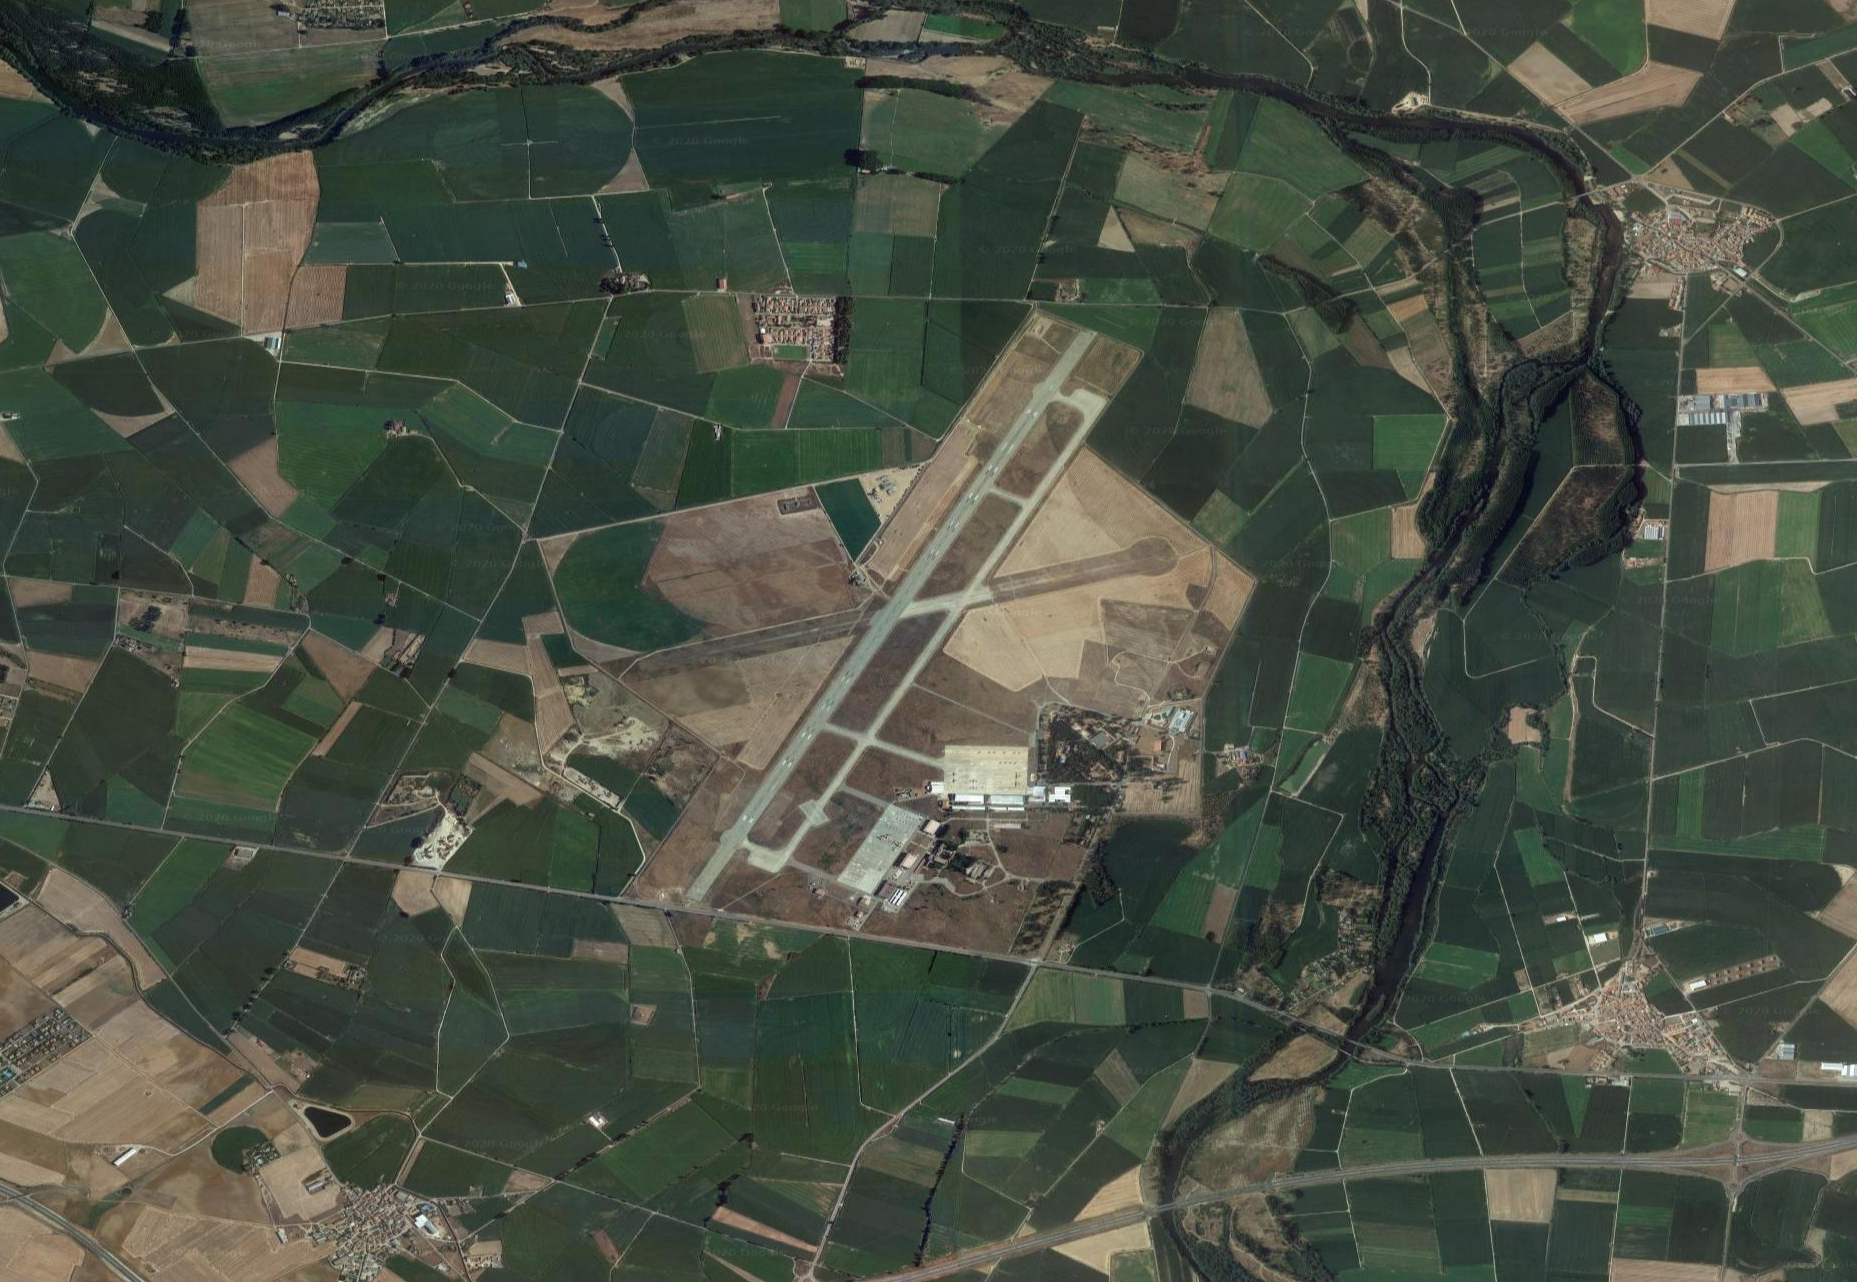airport: (677, 322, 1182, 905)
motorway: (1427, 1133, 1856, 1180), (1, 1185, 157, 1282), (1067, 1173, 1245, 1238), (1246, 1133, 1422, 1197), (888, 1217, 1065, 1281)
